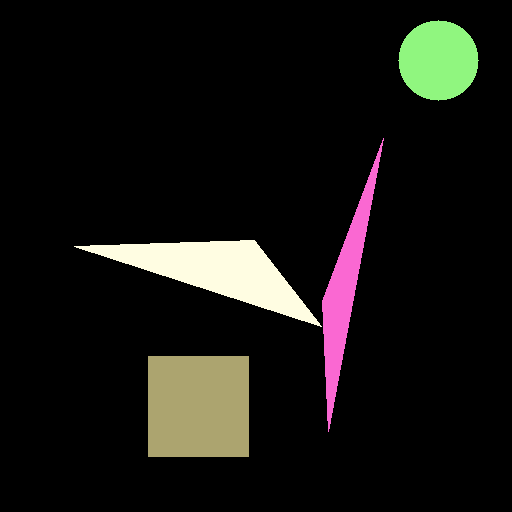circle: (398, 20, 478, 100)
square: (148, 356, 248, 456)
triangle: (74, 240, 321, 326), (322, 138, 383, 431)
